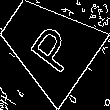P_NW: (18, 15, 77, 74)
